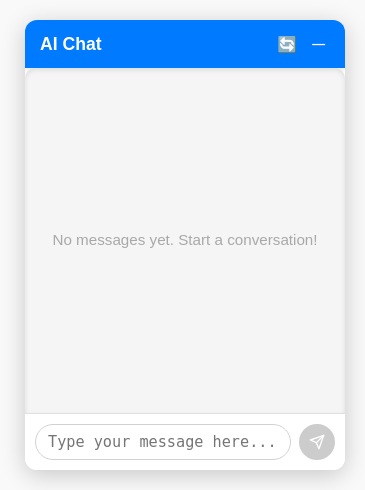
Test: ChatBot.vue › minimizes the chat when the minimize button is clicked
The width and height of the screenshot is (365, 490).
Click the minimize button
Click the button with class "minimize-button": point(319, 44) x1=307 y1=34 x2=330 y2=55
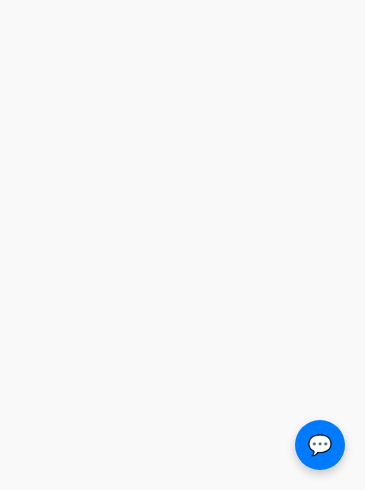
Now the button with class "chat-toggle-button" is shown, box x1=295 y1=420 x2=345 y2=470
